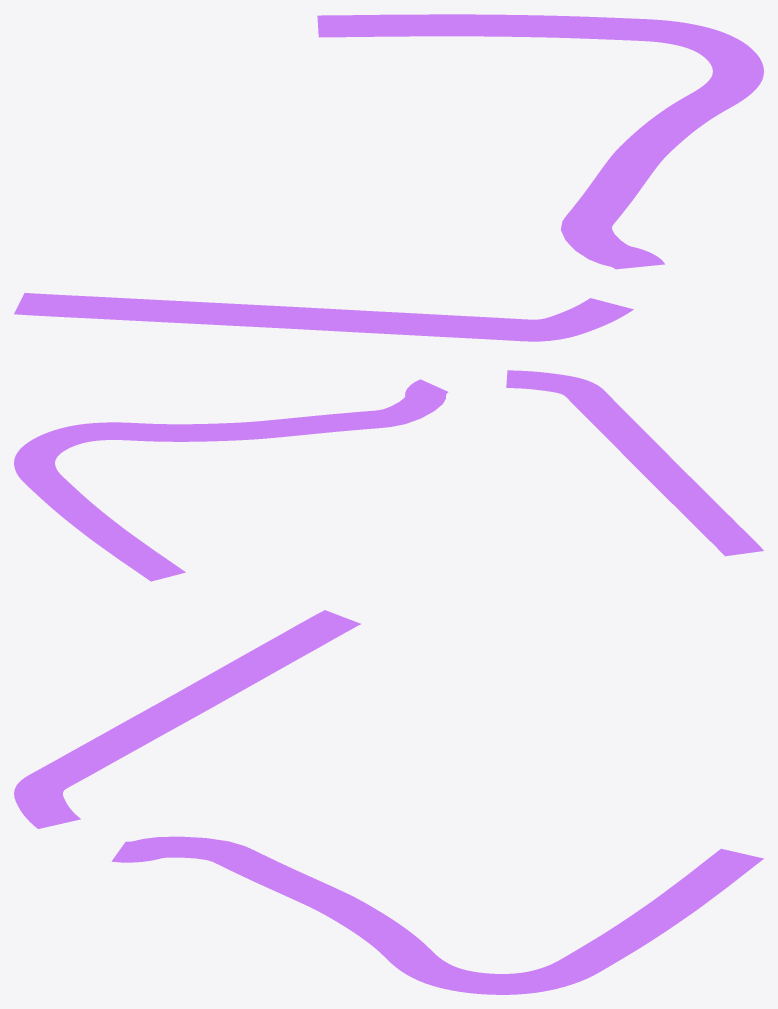
The model's file is SilverstoneDrs.glb.
The picture shows the model from 3 angles, top to bottom: view 1: azimuth 30°, elevation 25°; view 2: azimuth 150°, elevation 25°; view 3: azimuth 270°, elevation 25°; orthographic projection. The views are drawn at different scales.
Parts seen in each view (by area): view 1: DrsStrip_2, DrsStrip_1; view 2: DrsStrip_2, DrsStrip_1; view 3: DrsStrip_2, DrsStrip_1.
Boxes of the visible parts, x1,y1,x2,y2 form: DrsStrip_2: (317, 14, 763, 269); DrsStrip_1: (14, 293, 633, 341); DrsStrip_2: (14, 379, 448, 581); DrsStrip_1: (506, 370, 763, 556); DrsStrip_2: (111, 836, 763, 994); DrsStrip_1: (14, 610, 360, 828).
Bounding box in the file's own units: 8.2 × 0.003 × 6.76.
